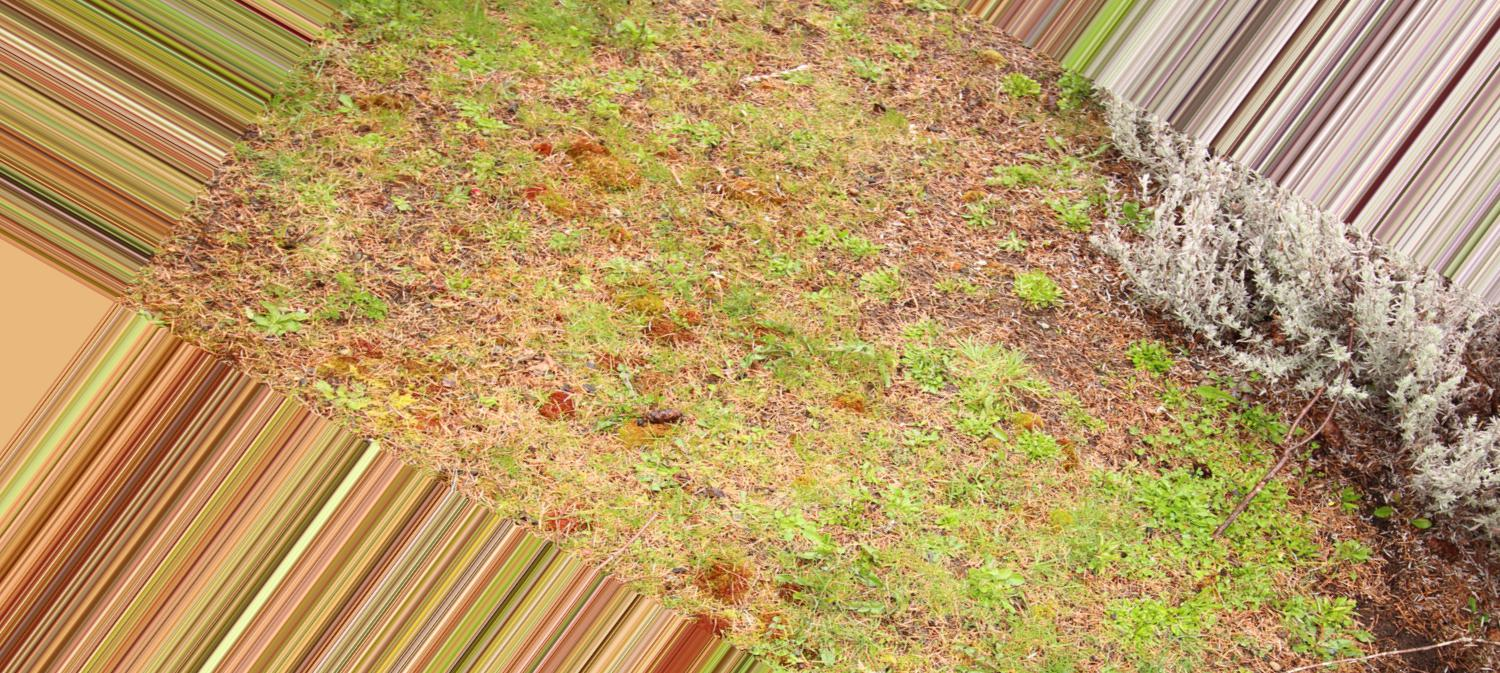patch: (376, 87, 715, 384), (501, 333, 824, 505)
